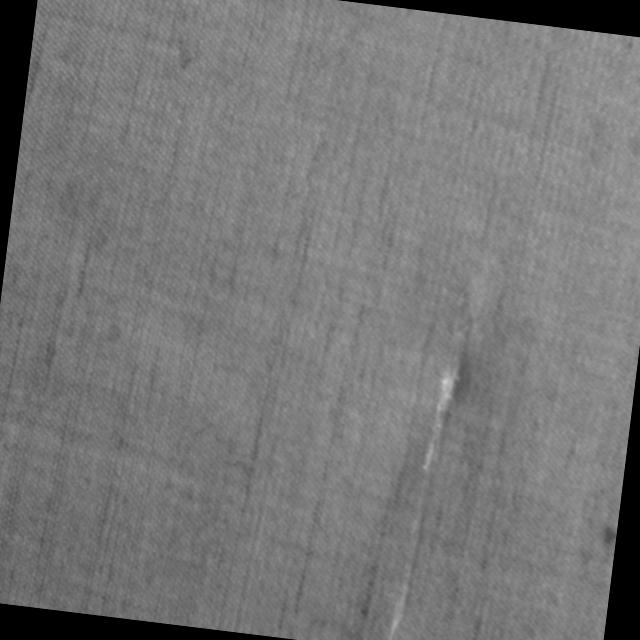thread error: (380, 290, 480, 640)
